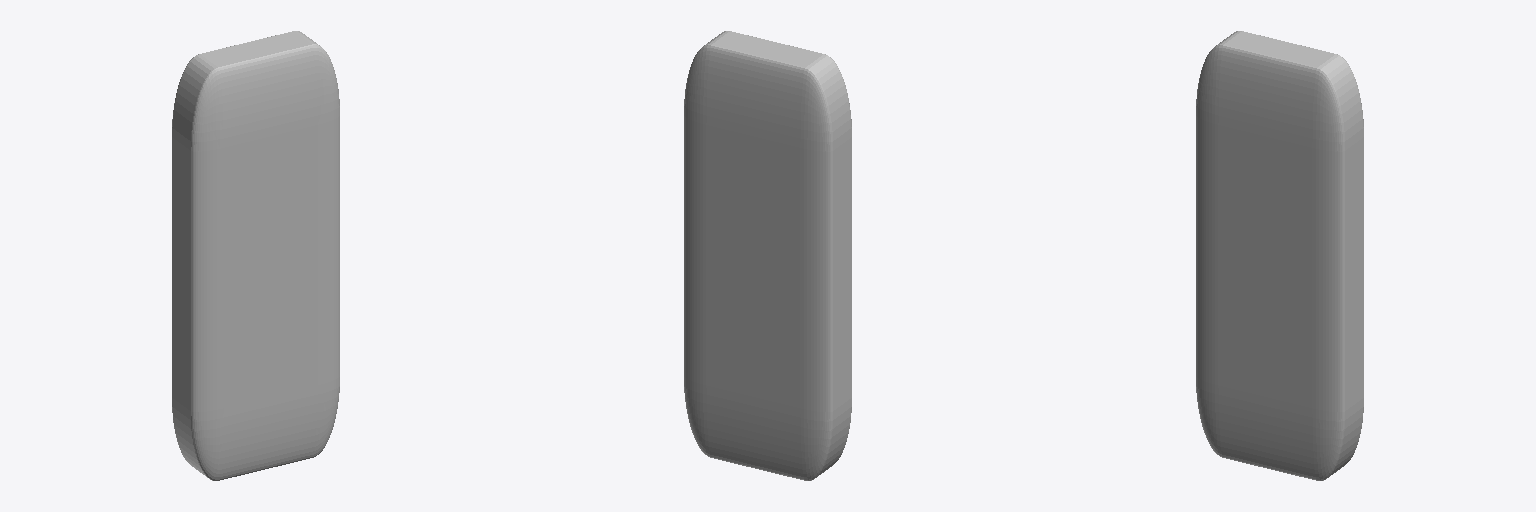
Rendered from foot.obj.
3 renders of one model, left to right at view 1: azimuth 30°, elevation 25°; view 2: azimuth 150°, elevation 25°; view 3: azimuth 330°, elevation 25°, orthographic.
Parts seen in each view (by area): view 1: foot_Cube.009; view 2: foot_Cube.009; view 3: foot_Cube.009.
Part boxes in pixels (left/top/right/bottom): foot_Cube.009: left=172, top=31, right=339, bottom=480; foot_Cube.009: left=684, top=31, right=851, bottom=480; foot_Cube.009: left=1196, top=31, right=1363, bottom=480.
Bounding box in the file's own units: 0.1062 × 0.2812 × 0.0358.